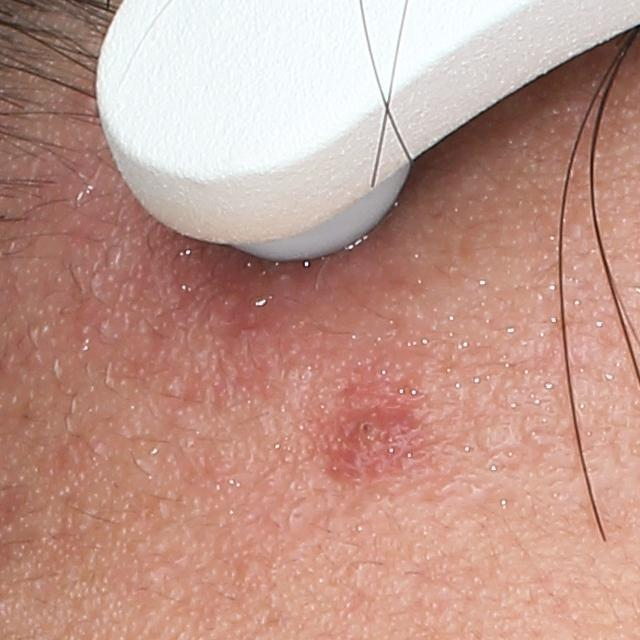papule: (309, 406, 424, 488)
